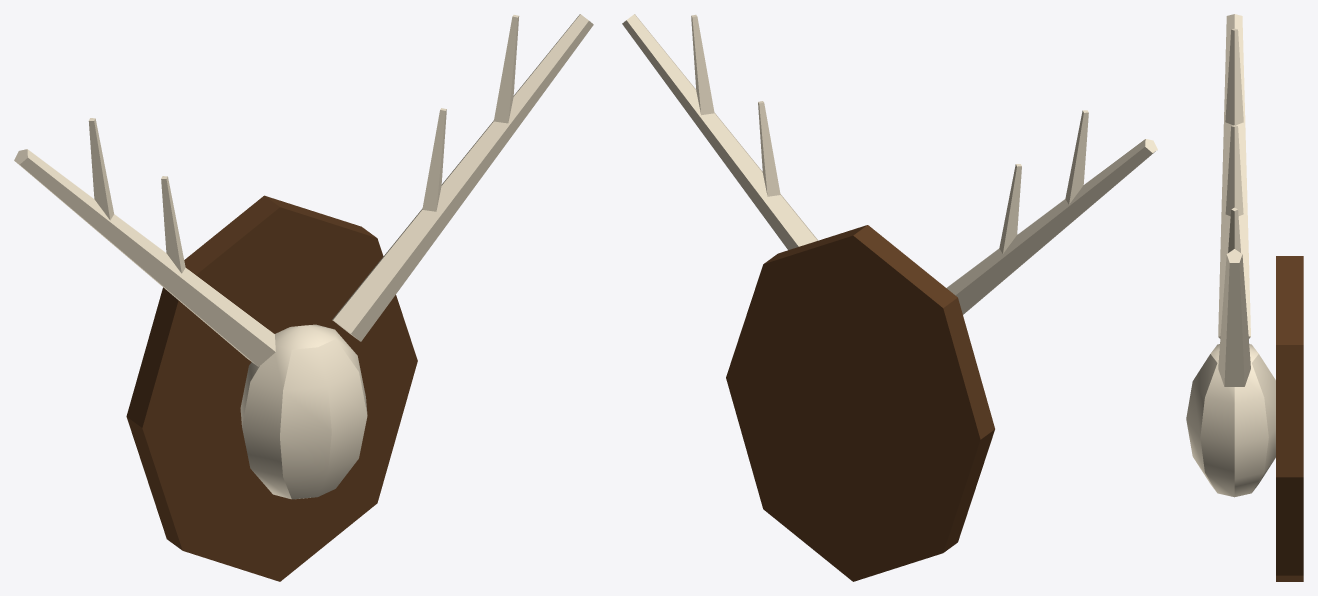
The model's file is PR_Decor_Boynuz.fbx.
3 renders of one model, left to right at view 1: azimuth 30°, elevation 25°; view 2: azimuth 150°, elevation 25°; view 3: azimuth 270°, elevation 25°, orthographic. The views are drawn at different scales.
Visible parts, largest first — view 1: PR_Decor_Boynuz; view 2: PR_Decor_Boynuz; view 3: PR_Decor_Boynuz.
Part boxes in pixels (<box>): PR_Decor_Boynuz: <box>14,14,593,581</box>; PR_Decor_Boynuz: <box>622,14,1157,581</box>; PR_Decor_Boynuz: <box>1186,14,1303,581</box>.
Bounding box in the file's own units: 0.8337 × 0.7382 × 0.17.
1 material, 1 textured.
